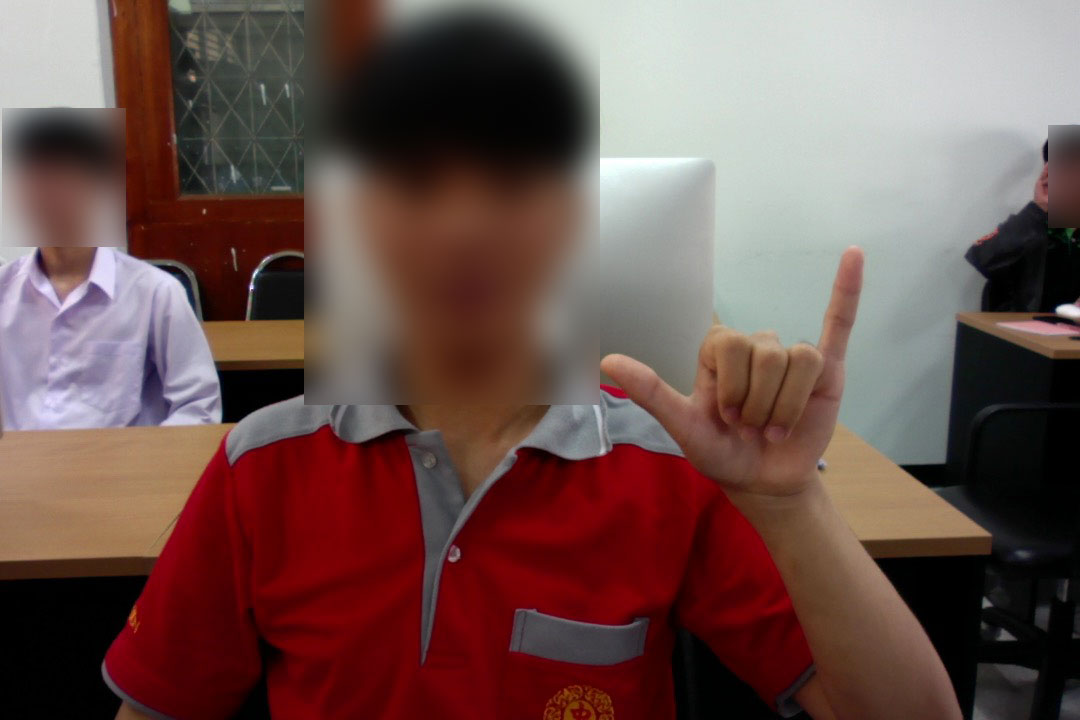yor: (590, 238, 872, 508)
